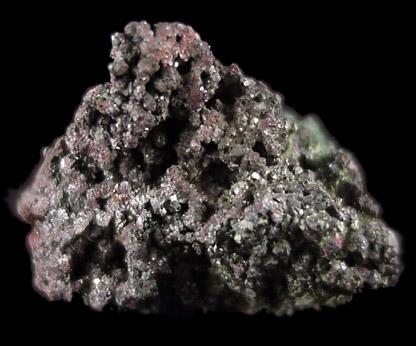cuprite: (8, 21, 248, 302), (320, 229, 345, 256)
